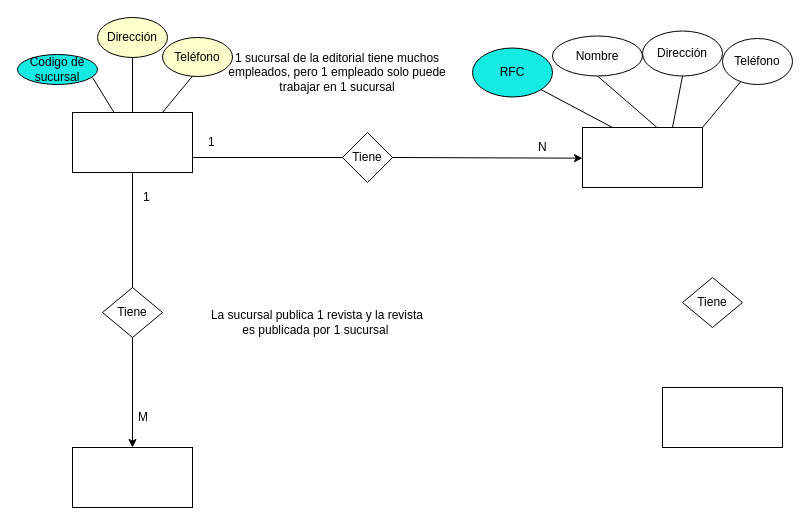
The diagram is 810 pixels wide and 525 high, and some of its shapes have lost their labels. Each missing label, with the centre of its shape:
Empleado: the point at 642,157
Periodista: the point at 722,417
Revista: the point at 132,477
Sucursal: the point at 132,142
